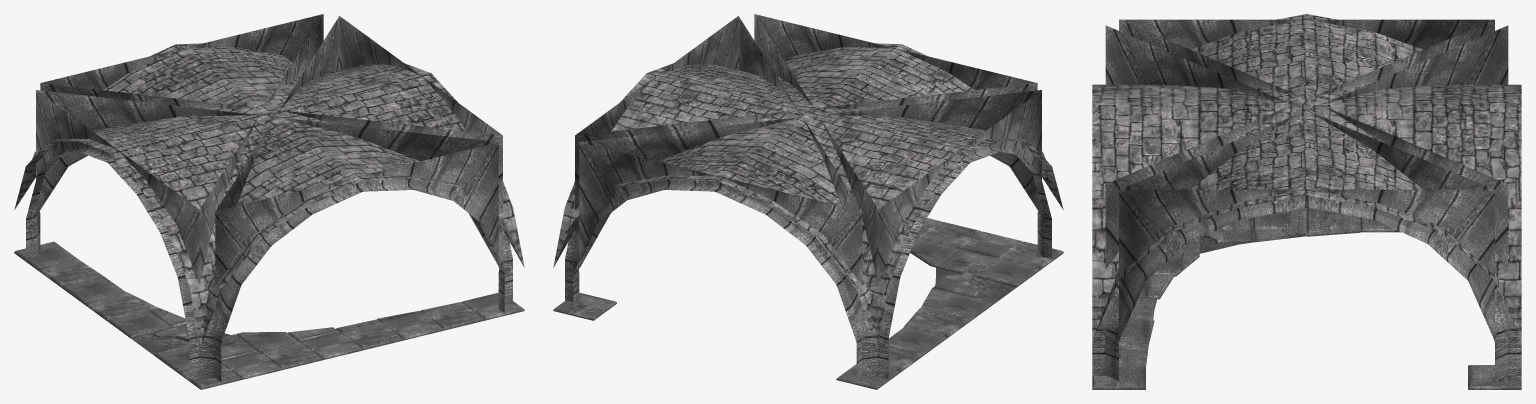
File: crypt_stair_top_00.FBX
3 views of the same model, side by side, from view 1: azimuth 30°, elevation 25°; view 2: azimuth 150°, elevation 25°; view 3: azimuth 270°, elevation 25° (orthographic). The views are drawn at different scales.
Parts seen in each view (by area): view 1: arch, vault, Box05, ground01; view 2: arch, vault, Box05, ground01; view 3: vault, arch, Box05, ground01.
Boxes of the visible parts, x1,y1,x2,y2 form: arch: (26,14,512,382); vault: (14,43,524,346); Box05: (14,241,524,389); ground01: (131,332,230,355); arch: (565,14,1051,382); vault: (553,43,1063,346); Box05: (553,218,1063,389); ground01: (935,267,1016,303); vault: (1092,14,1521,340); arch: (1092,19,1521,380); Box05: (1092,207,1521,389); ground01: (1154,217,1253,309).
Size of the model in its own units: 512 by 512 by 256.
